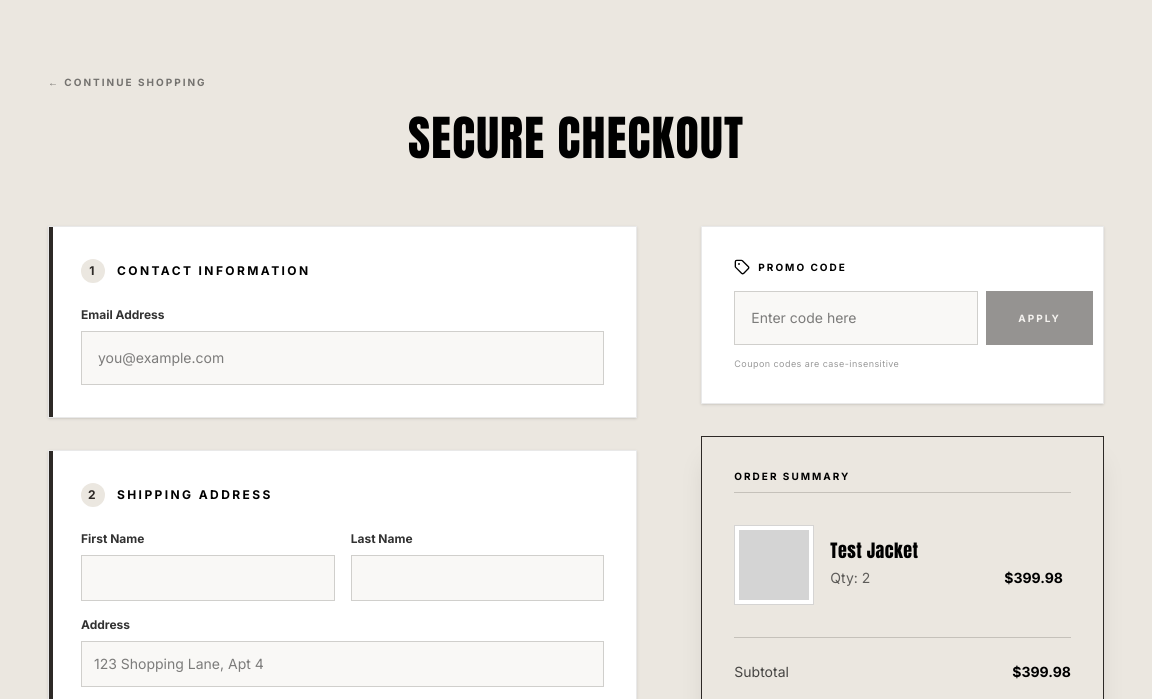
Scenario: Checkout › submits COD order and shows success
Type "a@b.com" into the field with placeholder "you@example.com" at (343, 358), box [81,331,604,385]
Type "John" into the field below "First Name" at (208, 578), box [81,555,335,601]
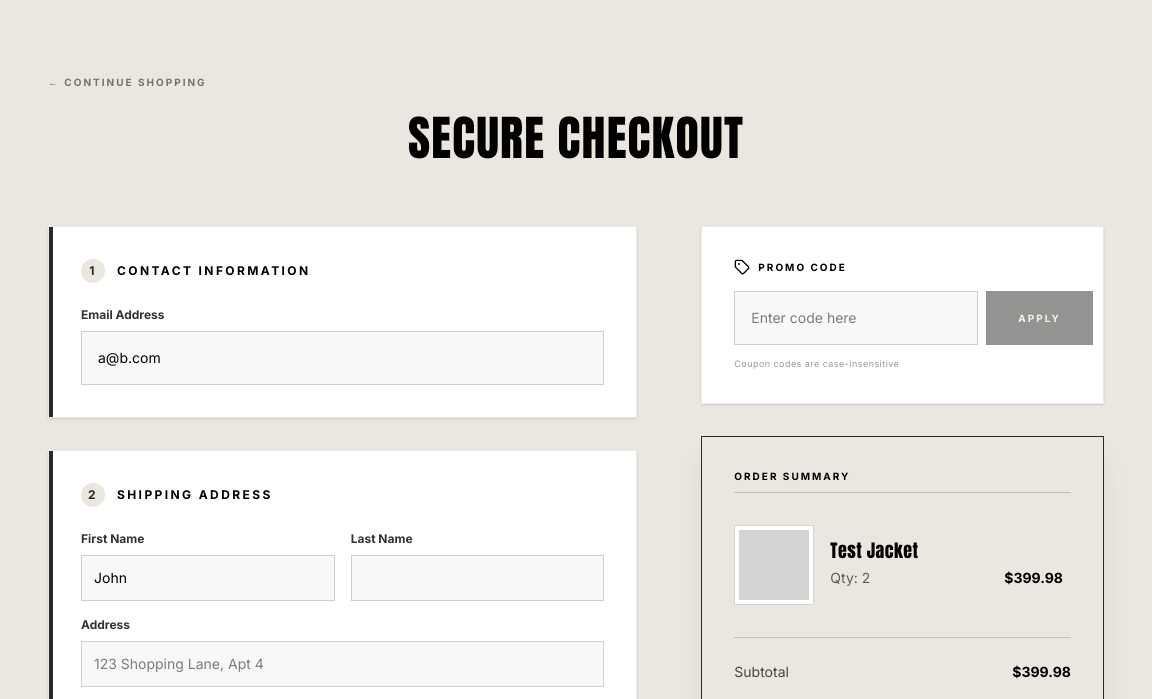
Type "Doe" into the field below "Last Name" at (478, 578), box [351,555,604,601]
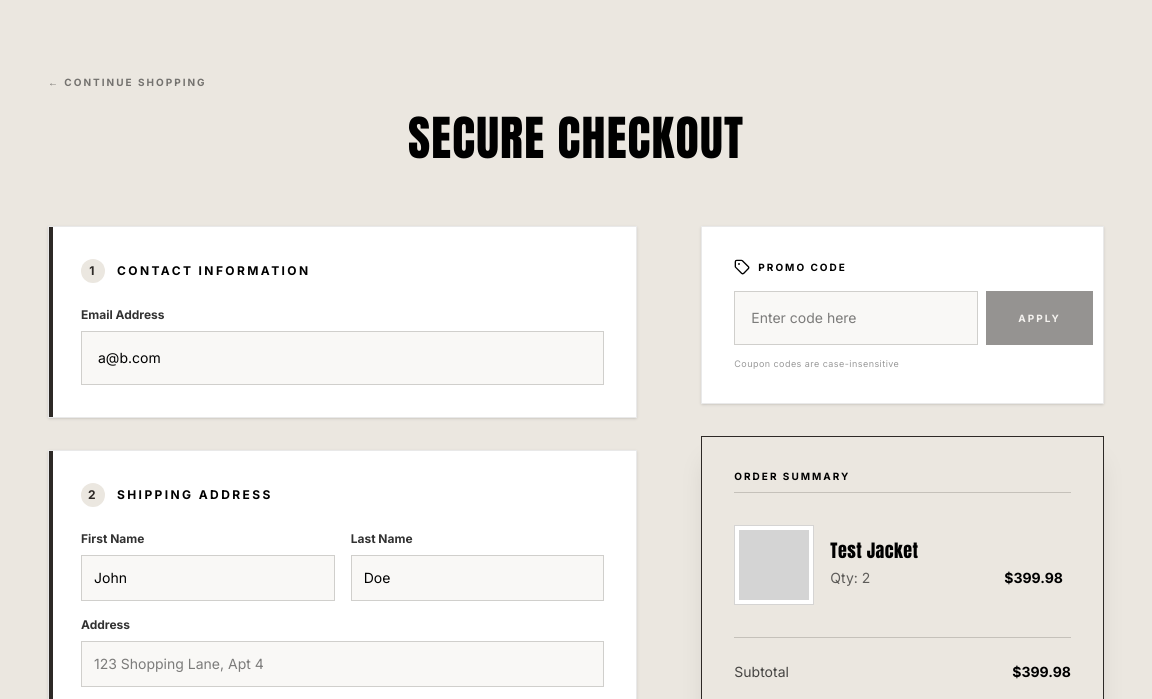
Type "1 Main St" into the field with placeholder "123 Shopping Lane, Apt 4" at (343, 664), box [81,641,604,687]
(page scrolled)
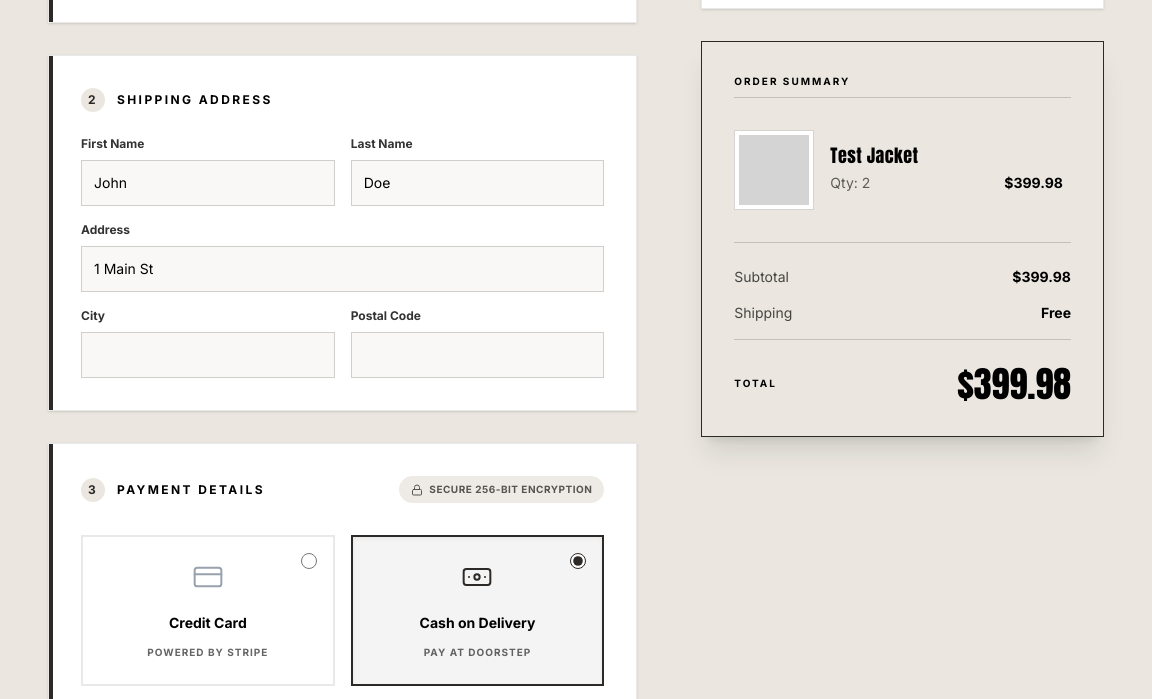
Type "NYC" into the field below "City" at (208, 355), box [81,332,335,378]
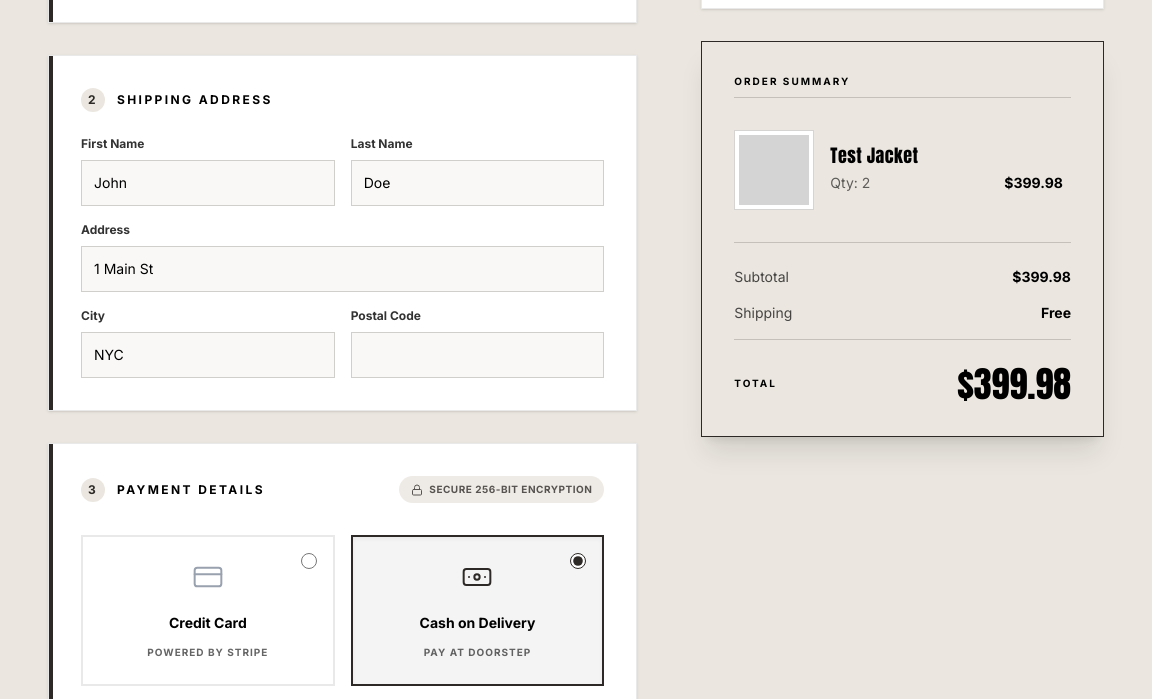
Type "10001" into the field below "Postal Code" at (478, 355), box [351,332,604,378]
(page scrolled)
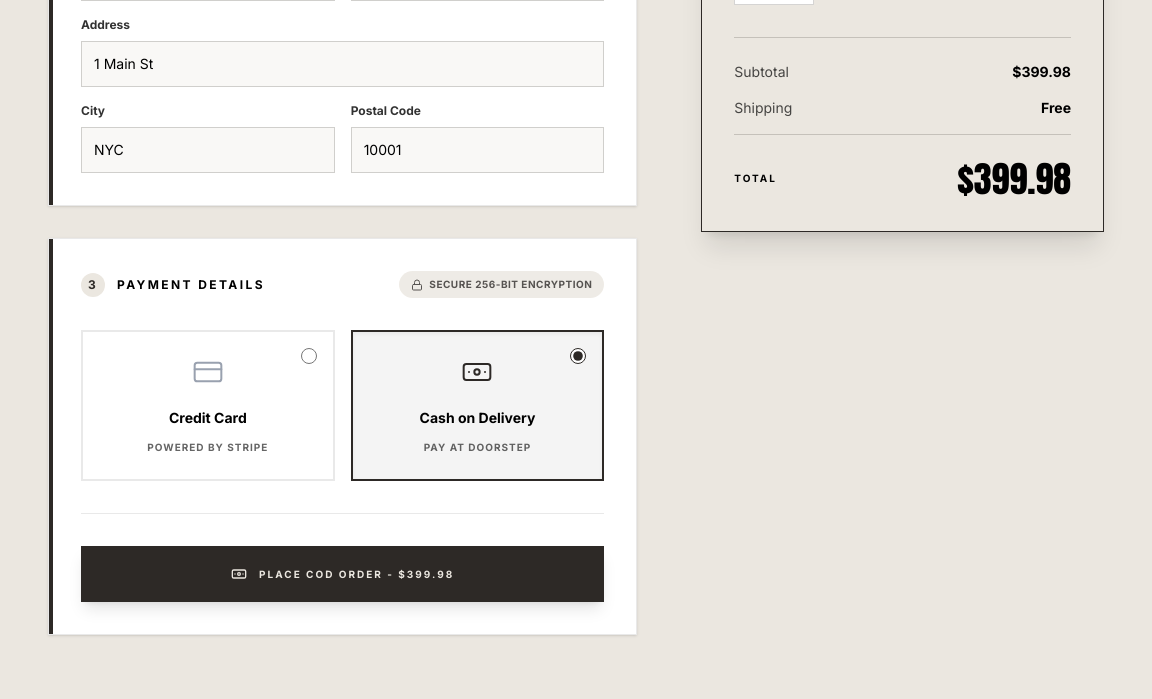
Click the button "Place COD Order - $399.98" at (343, 574), box [81,546,604,602]
(page scrolled)
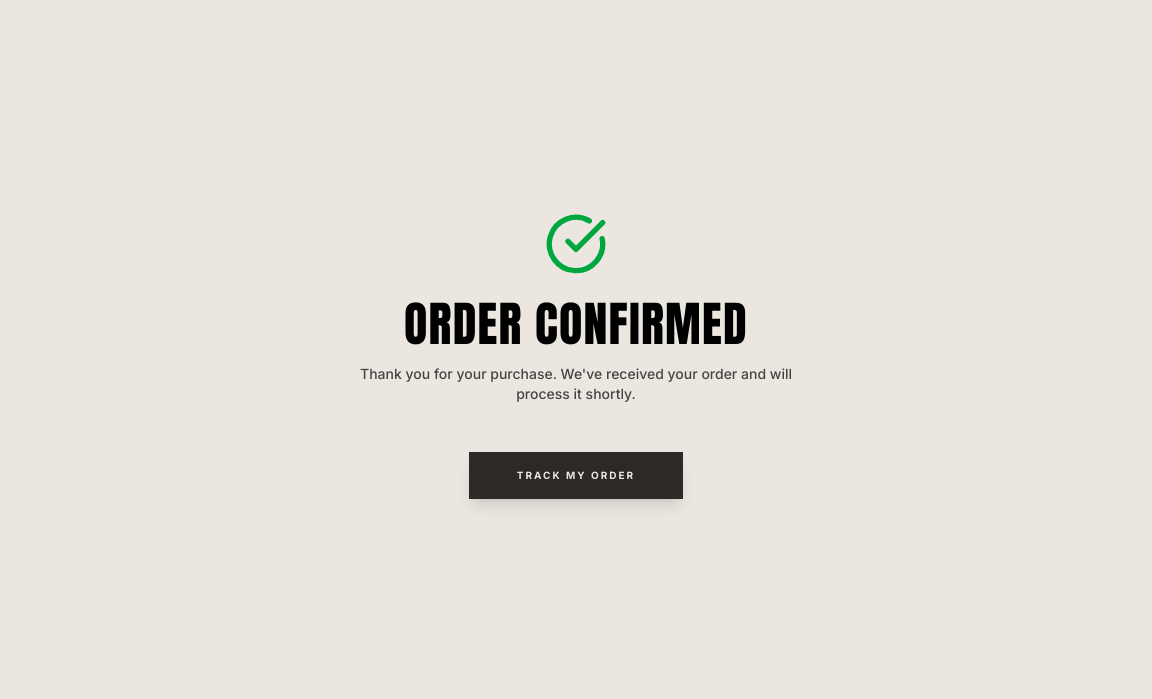
Expected: the heading "ORDER CONFIRMED" is shown, [404,300,748,348]
